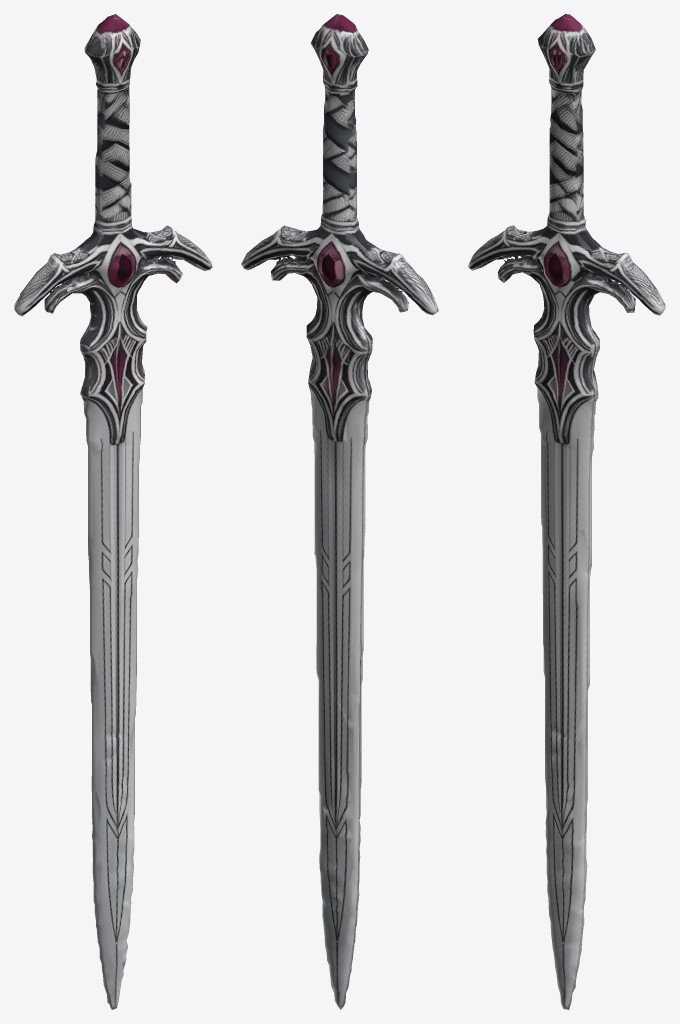
The model's file is Meshy_AI_espada_0409105006_texture.fbx.
3 renders of one model, left to right at view 1: azimuth 30°, elevation 25°; view 2: azimuth 150°, elevation 25°; view 3: azimuth 330°, elevation 25°, orthographic.
Parts seen in each view (by area): view 1: Mesh_0; view 2: Mesh_0; view 3: Mesh_0.
Part boxes in pixels (x1,y1,x2,y2): Mesh_0: (14, 14, 212, 1009); Mesh_0: (241, 14, 438, 1009); Mesh_0: (467, 14, 665, 1009).
Size of the model in its own units: 39.23 by 192 by 9.26.
1 material, 1 textured.
